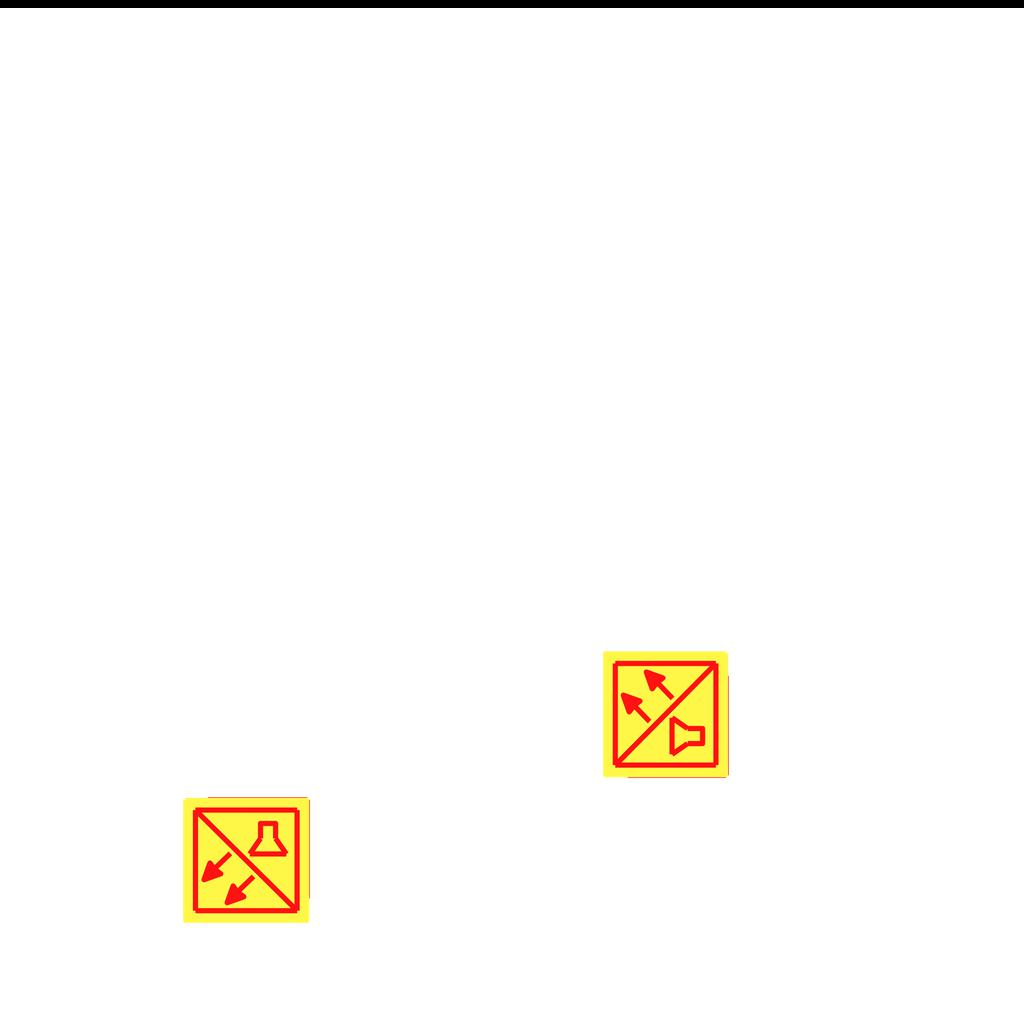OKW_Multisensormelder_(Kombination_optischer_Rauch-Kahlenmonoxid_Waerme-Melder): (600, 648, 732, 780), (180, 794, 312, 926)
